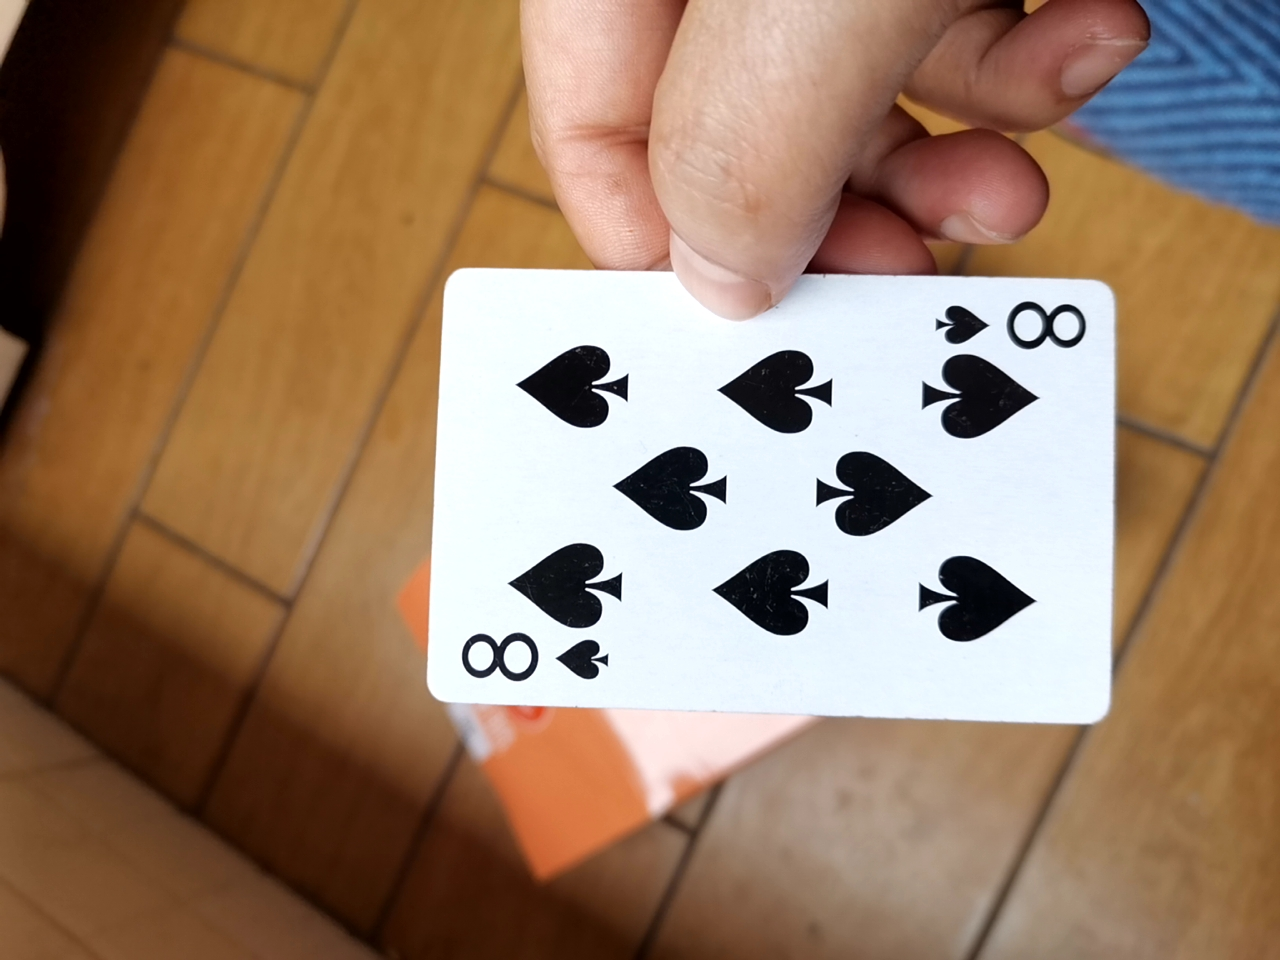ht 8: (390, 253, 1124, 755)
